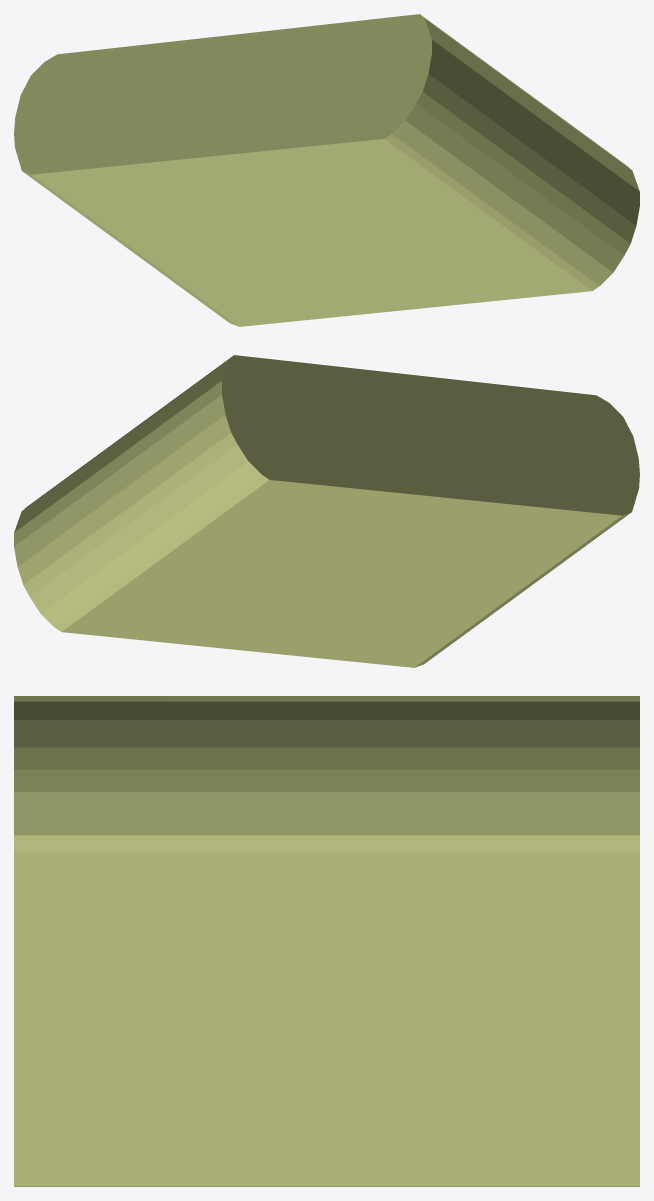
3 renders of one model, top to bottom at view 1: azimuth 30°, elevation 25°; view 2: azimuth 150°, elevation 25°; view 3: azimuth 270°, elevation 25°, orthographic. The views are drawn at different scales.
Visible parts, largest first — view 1: 0_0_1_2_3_0_3_2_0_3_2; view 2: 0_0_1_2_3_0_3_2_0_3_2; view 3: 0_0_1_2_3_0_3_2_0_3_2.
Boxes of the visible parts, left/top/right/bottom form: 0_0_1_2_3_0_3_2_0_3_2: left=14, top=14, right=639, bottom=326; 0_0_1_2_3_0_3_2_0_3_2: left=14, top=355, right=639, bottom=667; 0_0_1_2_3_0_3_2_0_3_2: left=14, top=696, right=639, bottom=1186.
Size of the model in its own units: 10.44 by 3.92 by 9.
